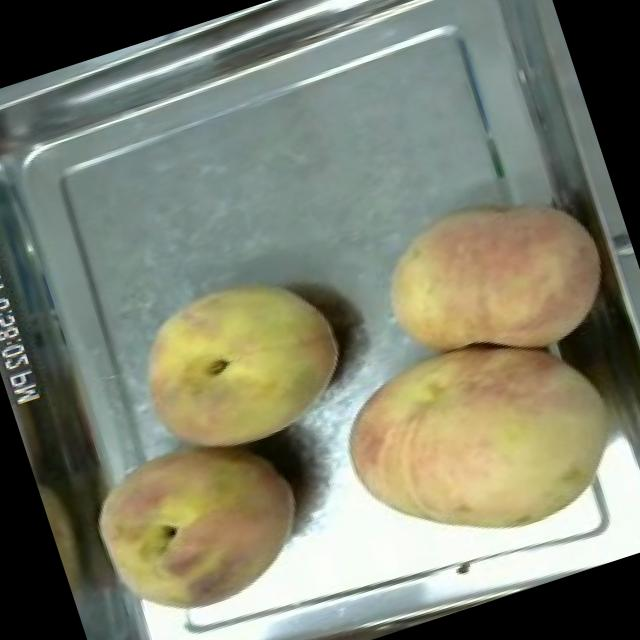Fruit: (313, 292, 640, 584), (354, 160, 634, 404), (65, 406, 333, 640), (112, 248, 368, 480)
